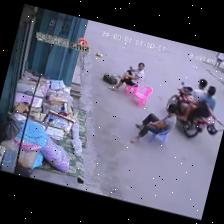person: (129, 104, 176, 143), (178, 86, 223, 126), (109, 63, 144, 91), (191, 79, 206, 102), (212, 52, 223, 69)
